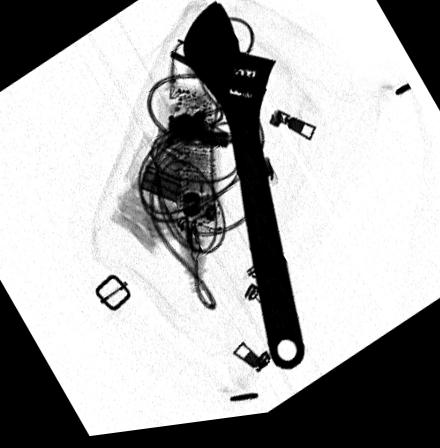Wrench: (181, 5, 305, 380)
